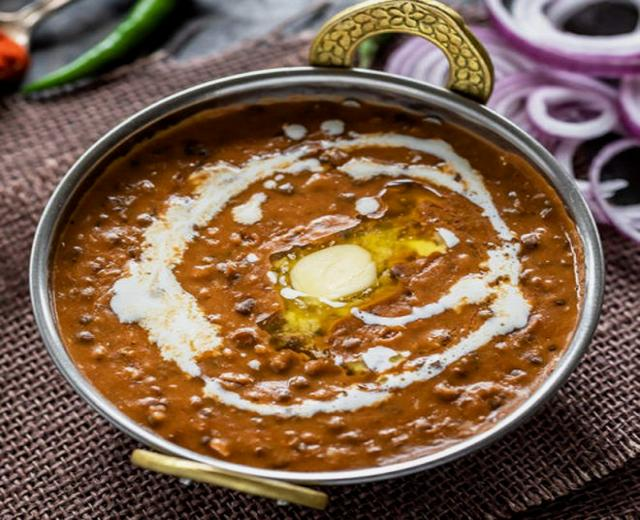dal makhni: (53, 98, 585, 473)
